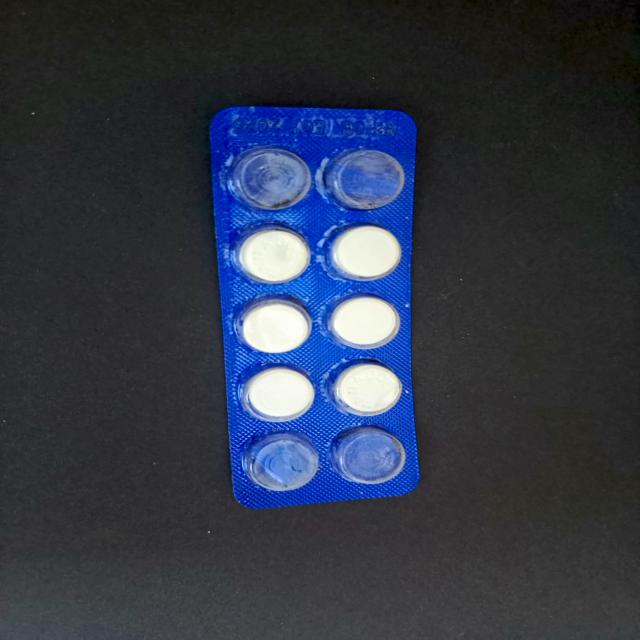defect: (318, 144, 408, 212), (229, 145, 315, 214), (240, 430, 322, 492), (329, 424, 408, 487)
